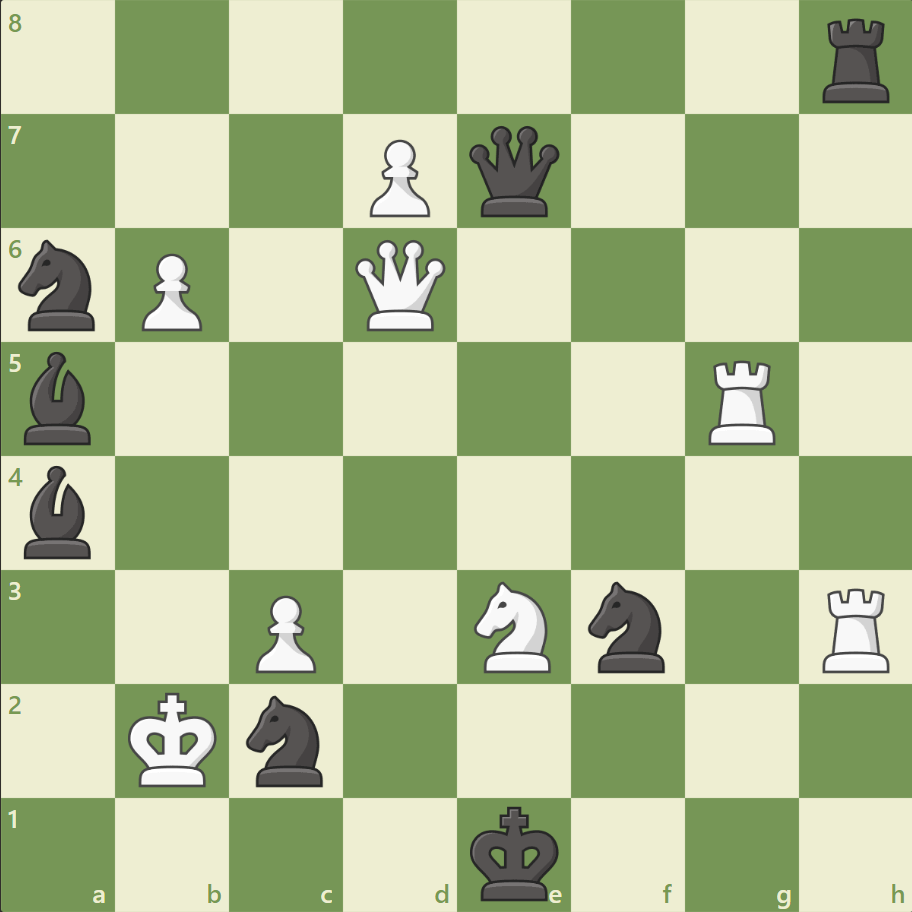K: (124, 685, 224, 793)
N: (465, 575, 562, 677)
P: (133, 246, 208, 337), (247, 586, 322, 677), (361, 132, 435, 223)
Q: (351, 236, 450, 335)
R: (700, 352, 783, 449), (814, 579, 897, 676)
b: (17, 460, 101, 563), (17, 347, 101, 449)
k: (465, 798, 565, 906)
n: (11, 234, 108, 337), (238, 688, 335, 791), (579, 575, 676, 677)
q: (464, 122, 563, 222)
r: (814, 12, 897, 109)
